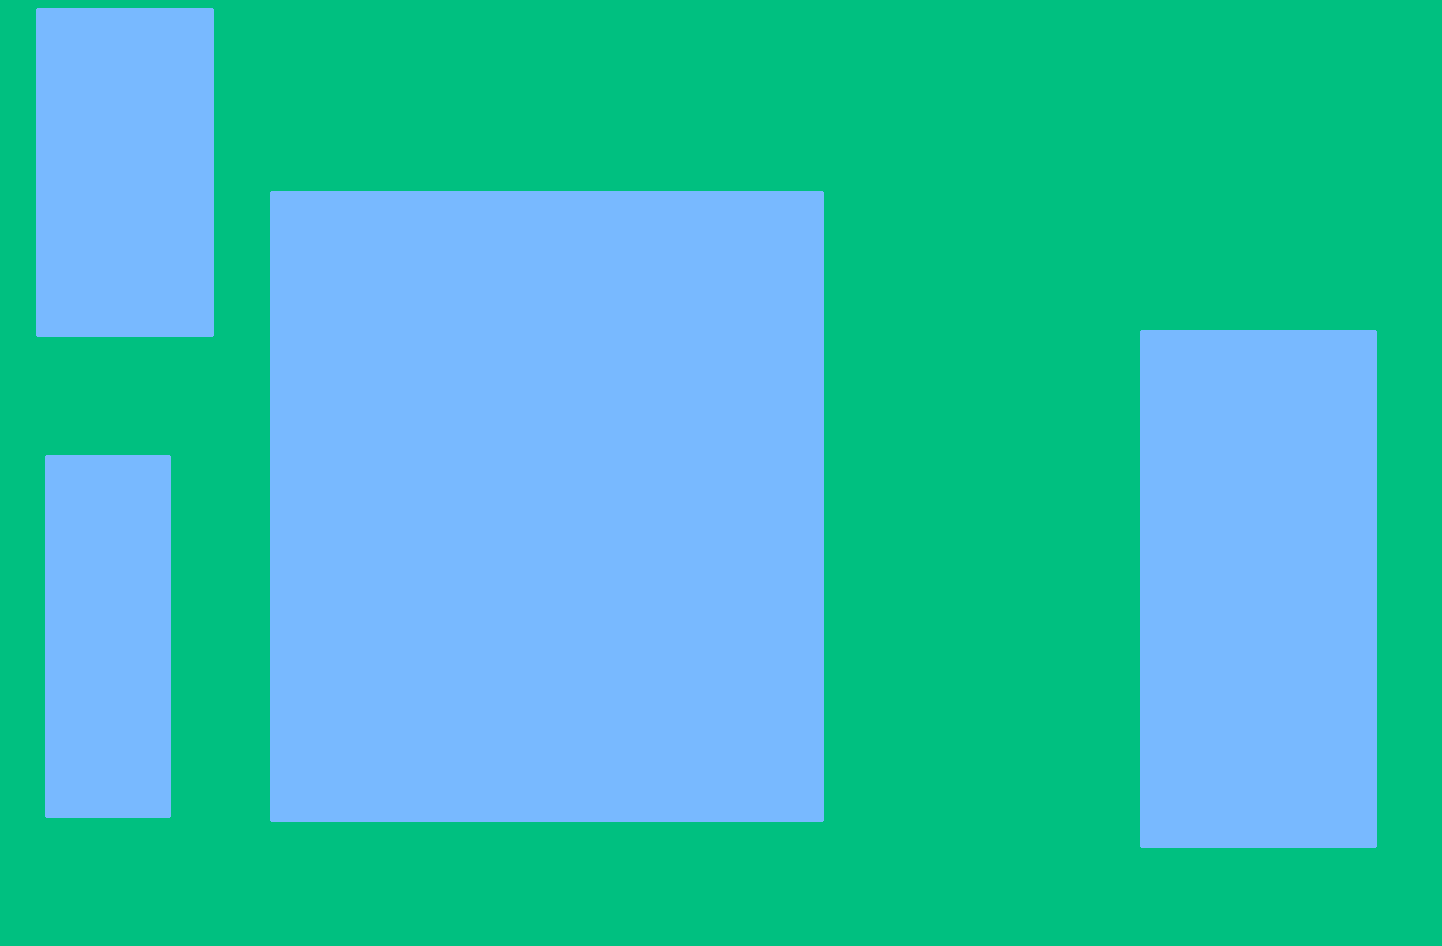Text_area: (271, 192, 822, 820), (1141, 332, 1375, 846), (37, 10, 212, 335), (46, 456, 169, 816)
